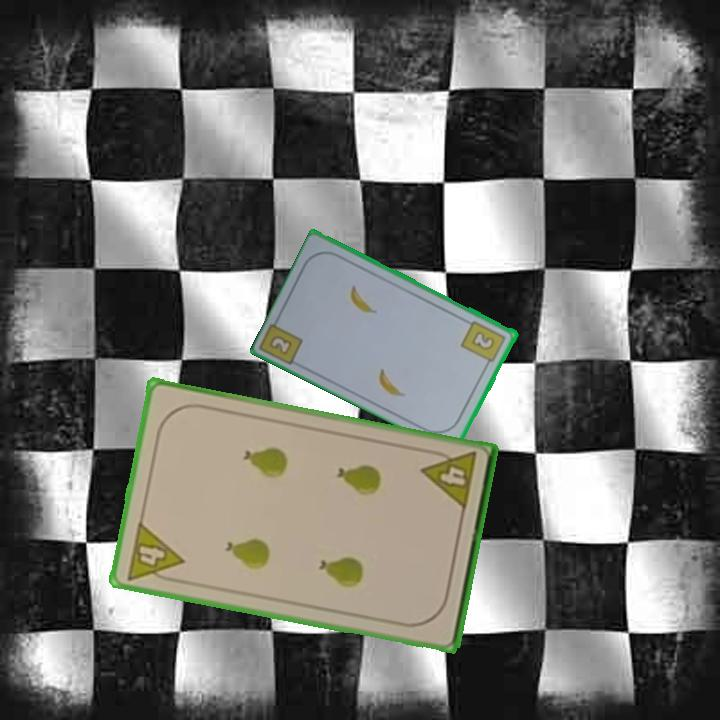2b: (458, 317, 509, 370), (266, 332, 295, 358)
4p: (122, 518, 187, 587), (418, 446, 480, 513)
